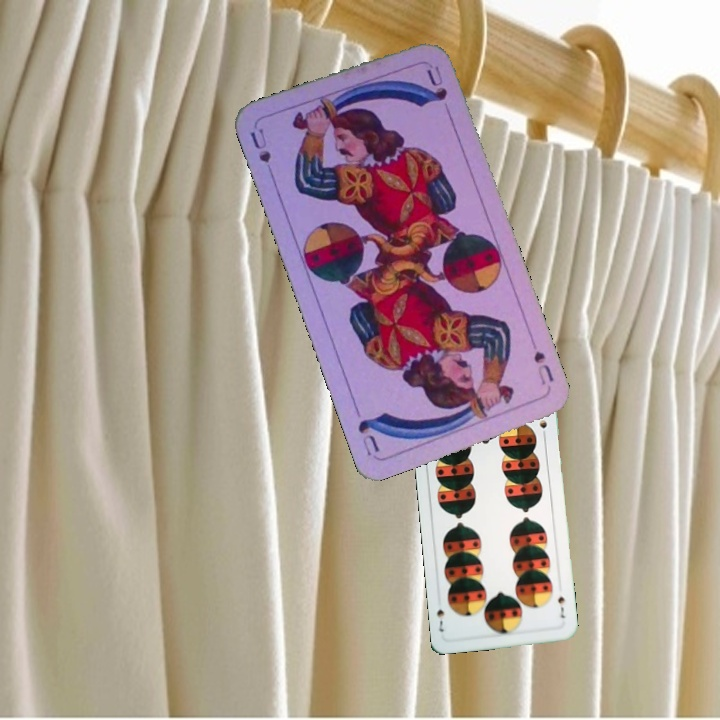S7: (554, 592, 567, 621)
SU: (246, 124, 278, 183), (529, 347, 556, 393)
